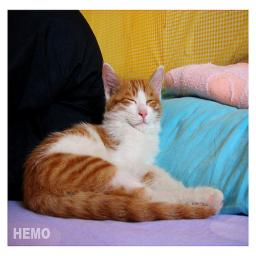catnose: (138, 108, 149, 120)
